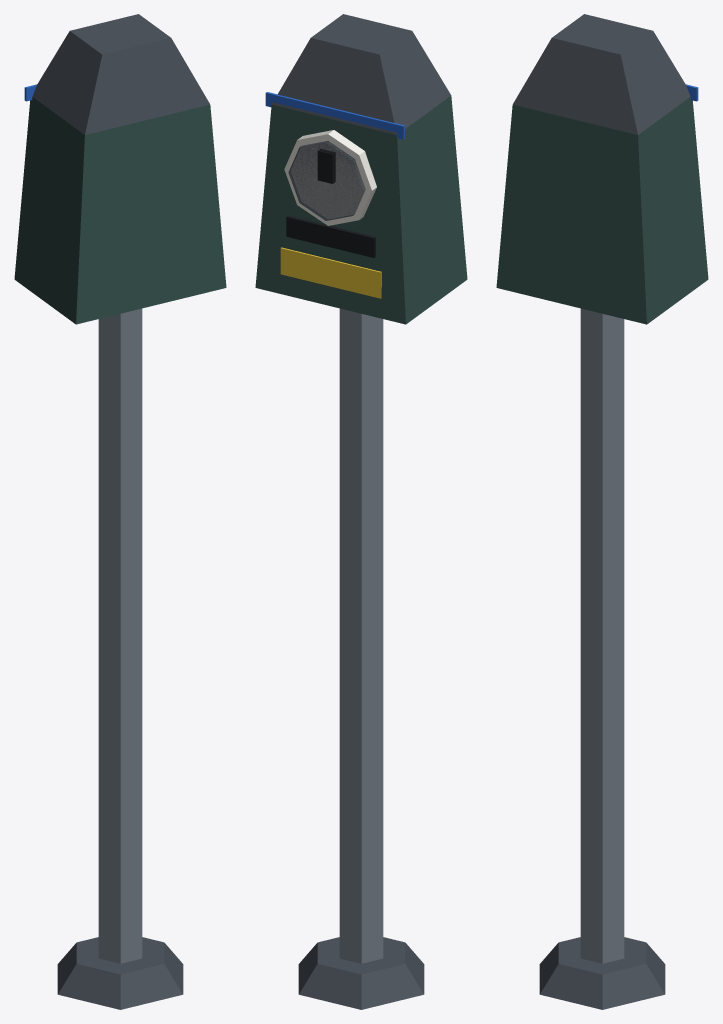
File: parking_meter.glb
The picture shows the model from 3 angles, left to right: view 1: azimuth 30°, elevation 25°; view 2: azimuth 150°, elevation 25°; view 3: azimuth 330°, elevation 25°; orthographic projection.
Parts seen in each view (by area): view 1: Body; view 2: Body; view 3: Body.
Part boxes in pixels (<box>): Body: <box>14,14,226,1009</box>; Body: <box>255,14,467,1009</box>; Body: <box>496,14,708,1009</box>.
Bounding box in the file's own units: 0.24 × 1.44 × 0.1866.
